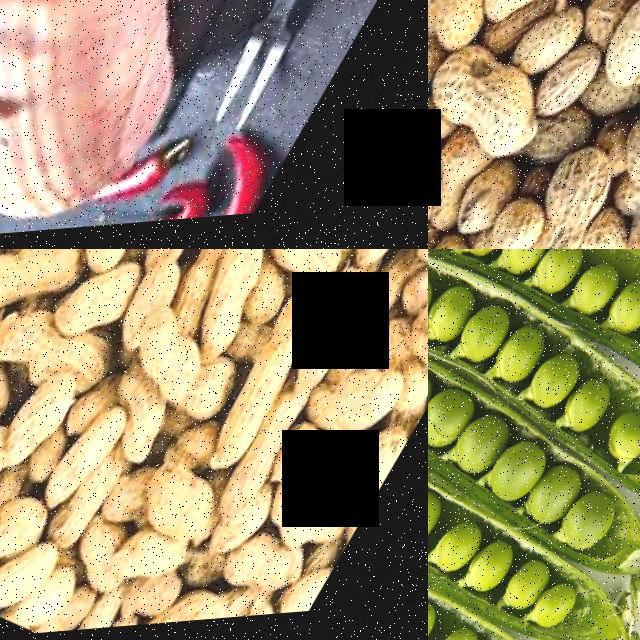chilli: (209, 142, 302, 226), (139, 173, 235, 230)
peanuts: (200, 278, 348, 484), (431, 43, 573, 178), (287, 269, 389, 411), (218, 396, 317, 539), (332, 249, 428, 394), (0, 362, 95, 489), (520, 153, 639, 249), (188, 249, 293, 357), (57, 444, 144, 562), (151, 339, 253, 438), (139, 463, 241, 559), (48, 406, 133, 520), (51, 265, 145, 360), (326, 365, 417, 463), (0, 479, 63, 600), (428, 0, 516, 63), (0, 249, 66, 332), (474, 191, 564, 249), (264, 249, 361, 298), (599, 0, 640, 108), (0, 553, 55, 625), (128, 249, 227, 286), (614, 65, 640, 205), (72, 249, 155, 279), (404, 301, 428, 388)
peas: (428, 308, 640, 588), (428, 249, 640, 498), (428, 386, 625, 640), (428, 249, 640, 401), (428, 457, 591, 640)
pork belly: (0, 0, 239, 117)
